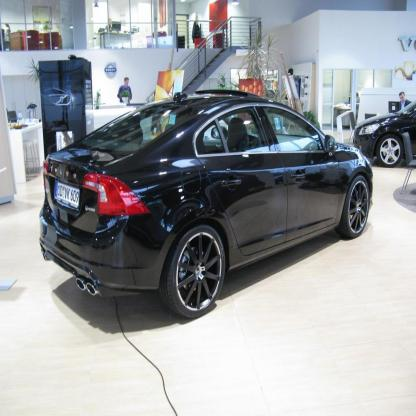Car: (40, 91, 374, 320), (353, 100, 416, 169)
